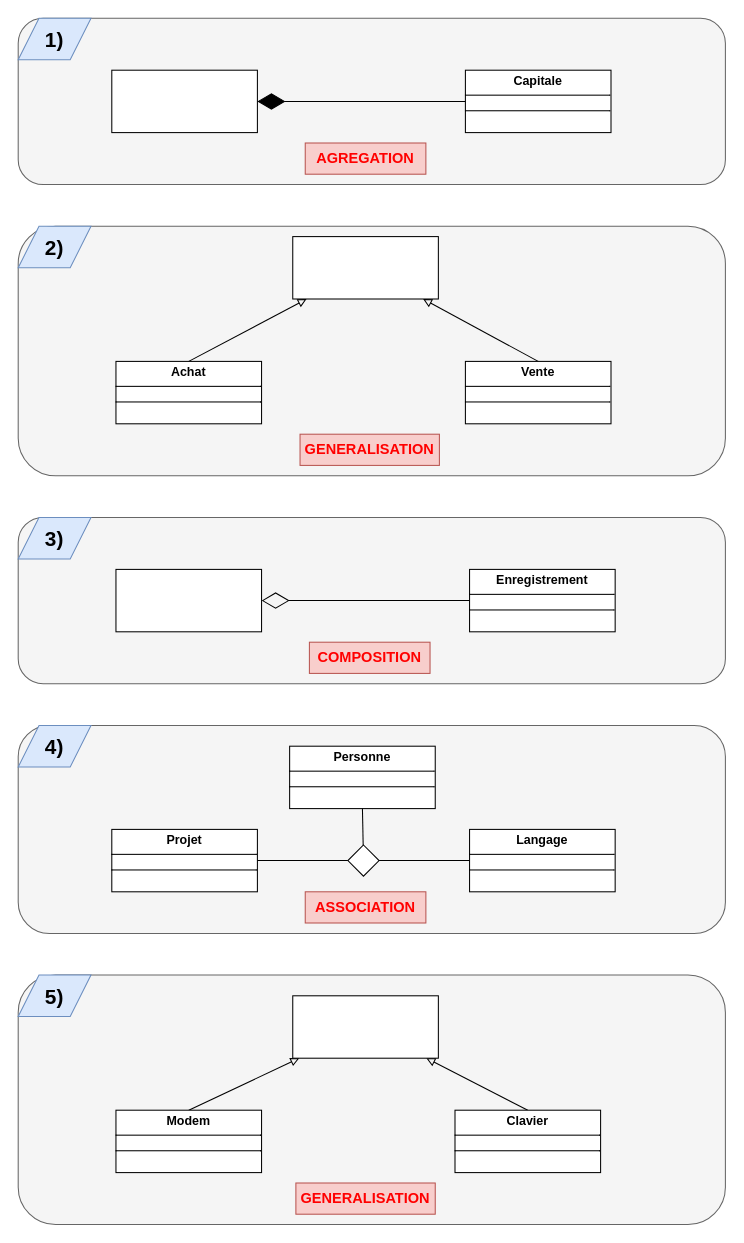
This 744x1243 diagram has some shape labels left out. The shapes that lost their labels are listed below. From the top down, each one's box as (x1, y1, x2, y2) in pixels, then its label:
(111, 69, 257, 133): Pays
(292, 236, 438, 299): Transaction
(115, 568, 262, 632): Fichier
(292, 995, 438, 1058): Périphérique
